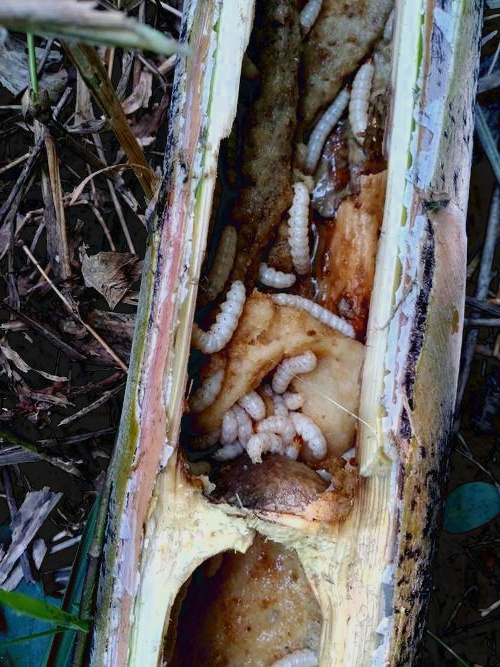Borer: (183, 350, 342, 475), (161, 215, 248, 365), (286, 32, 378, 167), (265, 175, 342, 331)
